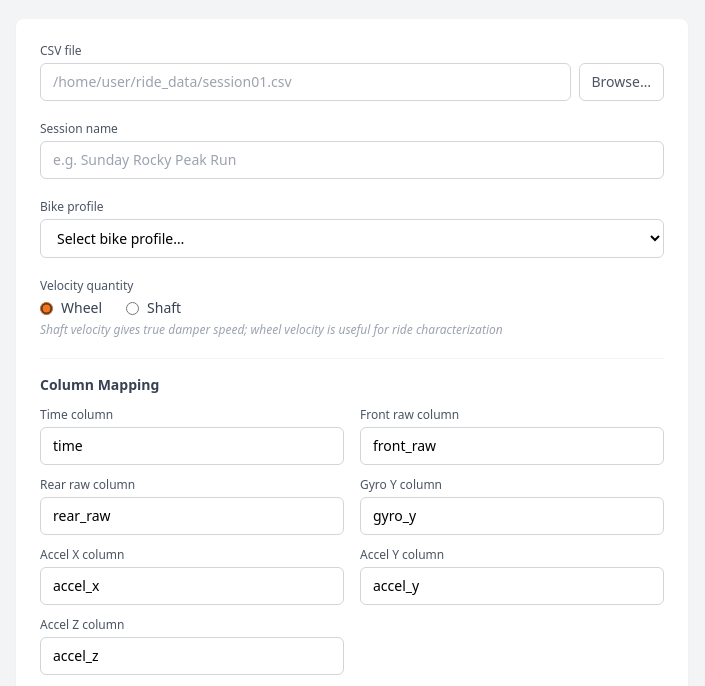
Test: ImportPage › shows an error banner when the API returns an error
The image size is (705, 686).
Type "/bad/path.csv" into the field with placeholder "/home/user/ride_data/session01.csv".
click(305, 82); type("/bad/path.csv")  # box [40,63,570,101]
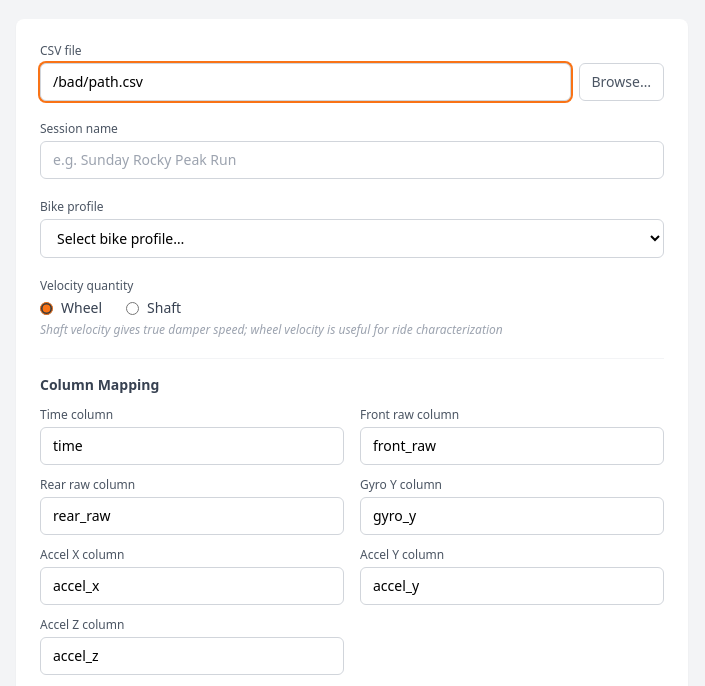
Type "Bad Session" into the field with placeholder "e.g. Sunday Rocky Peak Run".
click(352, 160); type("Bad Session")  # box [40,141,664,179]
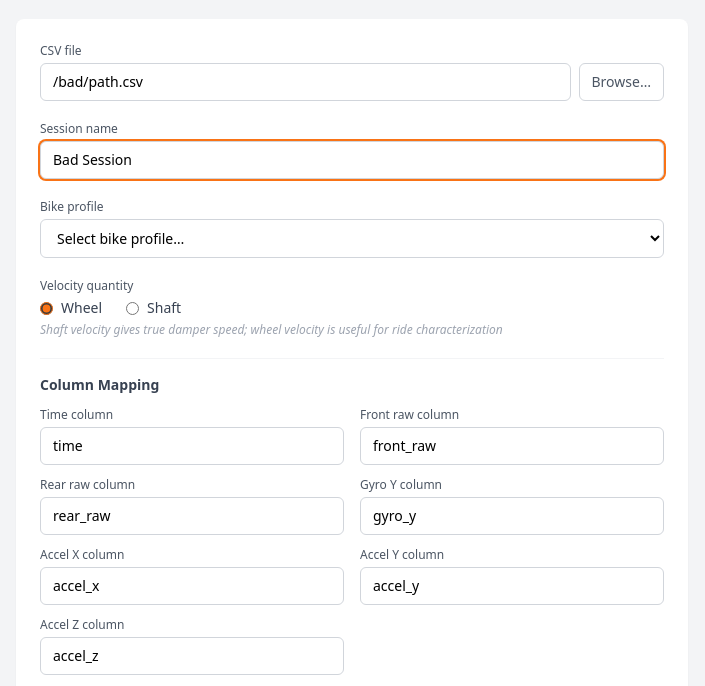
Select "Yamaha Ténéré 700 (Test Profile)" in the dropdown at [352, 238], box [40,219,664,258]
(page scrolled)
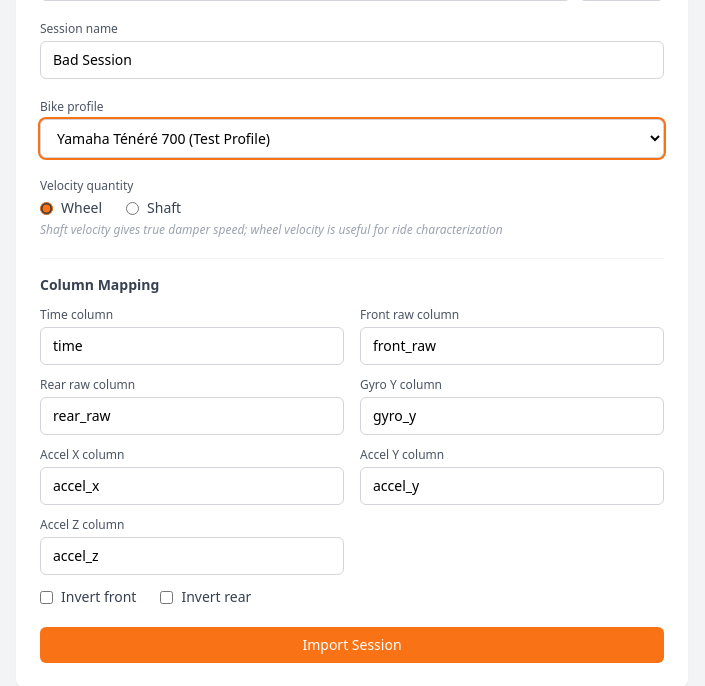
Click the button "Import Session".
click(352, 645)  # box [40,627,664,663]
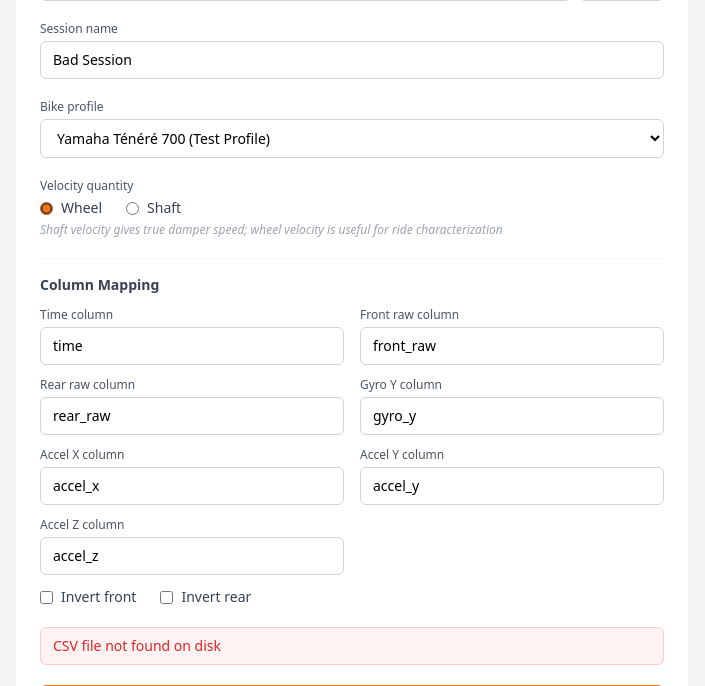
Now the text "CSV file not found on disk" is shown, box [40,627,664,665]
